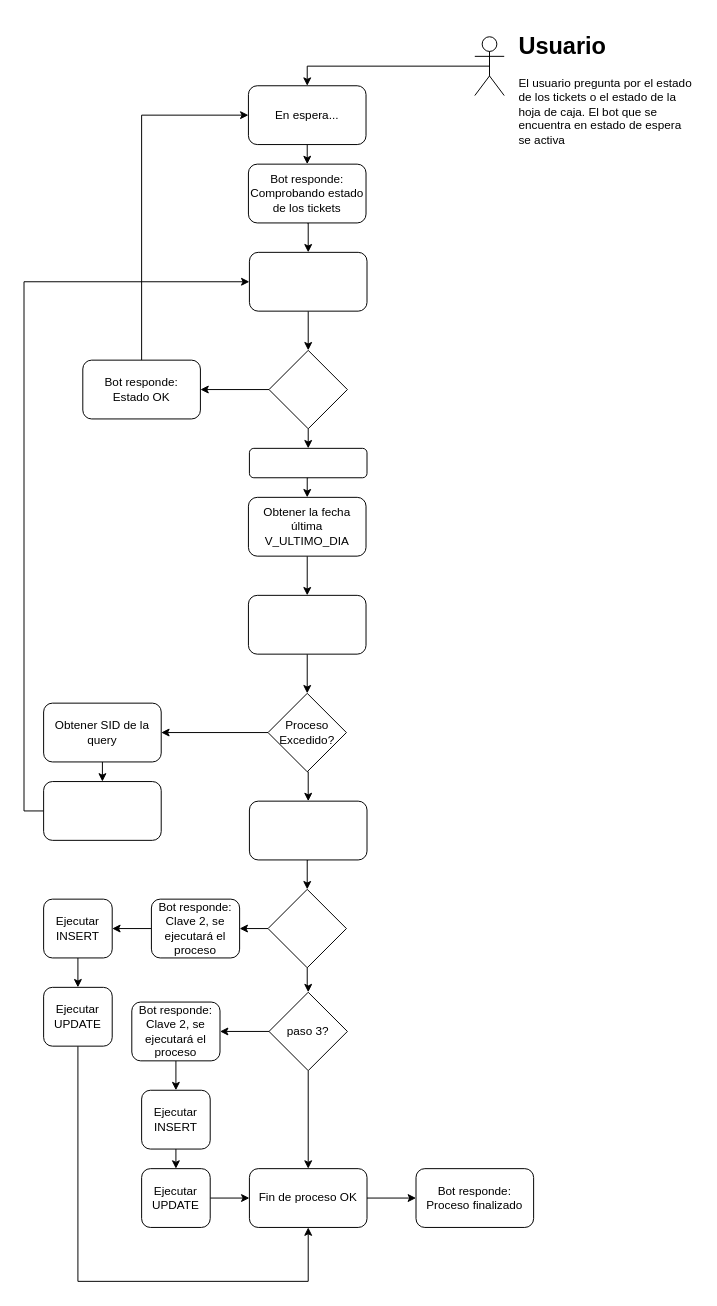
Some shapes in this 717 by 1306 pixel diagram are drawn without their labels. Here are the shapes that lost their labels. From the top down, the centre of each, then its label:
At [489,66]: "Actor".
At [307,281]: "Comprobar estado de tickets".
At [307,389]: "Estado OK?".
At [307,462]: "Comienzo de proceso".
At [306,624]: "Comprobar proceso excedido".
At [102,810]: "Bot Responde: Llamar a operación. Que maten el SID".
At [307,830]: "Comprobar paso en el que se quedó".
At [306,928]: "paso 2?".
